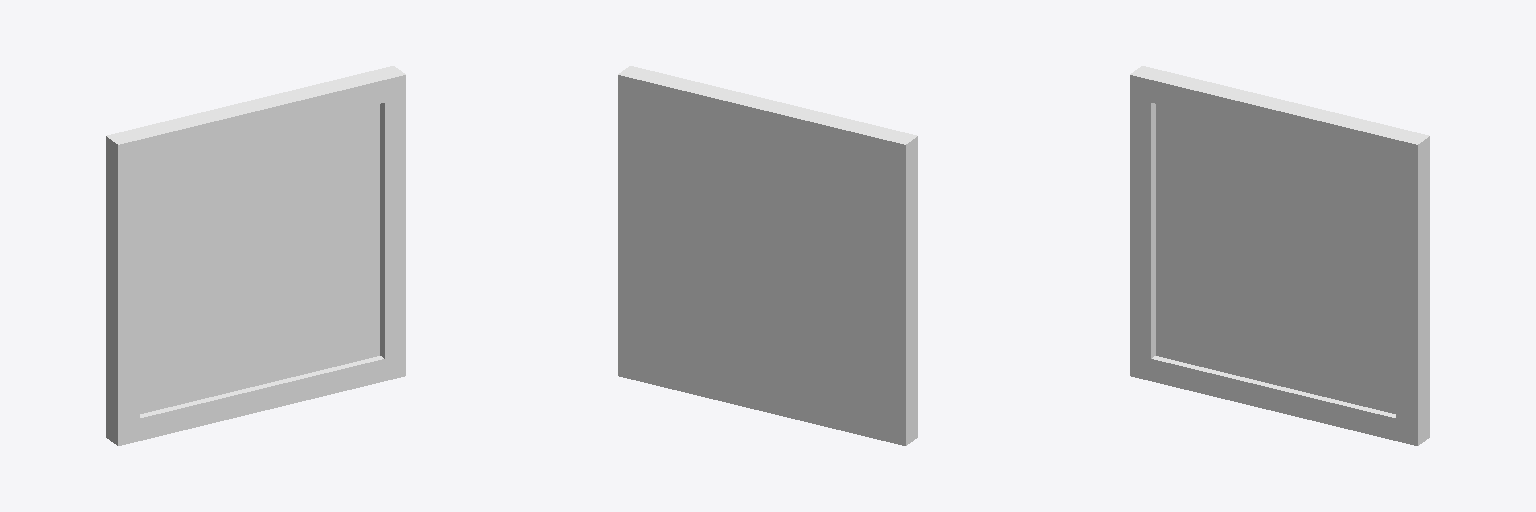
File: frame2.obj
The picture shows the model from 3 angles: view 1: azimuth 30°, elevation 25°; view 2: azimuth 150°, elevation 25°; view 3: azimuth 330°, elevation 25°; orthographic projection.
Visible parts, largest first — view 1: frame2; view 2: frame2; view 3: frame2.
Part boxes in pixels (bbox=[...]): frame2: bbox=[106, 66, 405, 445]; frame2: bbox=[618, 66, 917, 445]; frame2: bbox=[1130, 66, 1429, 445].
Size of the model in its own units: 40 by 40 by 3.